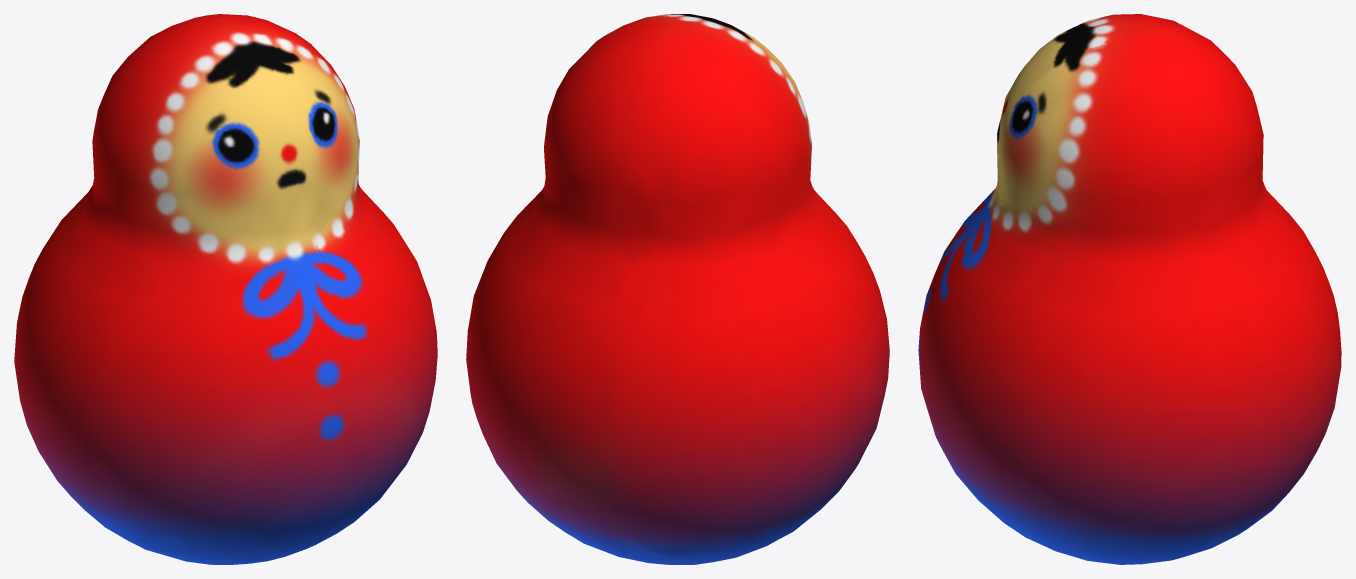
File: Roly_Poly_painted.fbx
3 renders of one model, left to right at view 1: azimuth 30°, elevation 25°; view 2: azimuth 150°, elevation 25°; view 3: azimuth 270°, elevation 25°, orthographic.
Parts seen in each view (by area): view 1: Roly_Poly; view 2: Roly_Poly; view 3: Roly_Poly.
Boxes of the visible parts, x1,y1,x2,y2 form: Roly_Poly: (14, 14, 437, 564); Roly_Poly: (466, 14, 889, 564); Roly_Poly: (918, 14, 1341, 564).
Bounding box in the file's own units: 197 × 268 × 198.
1 material, 1 textured.
